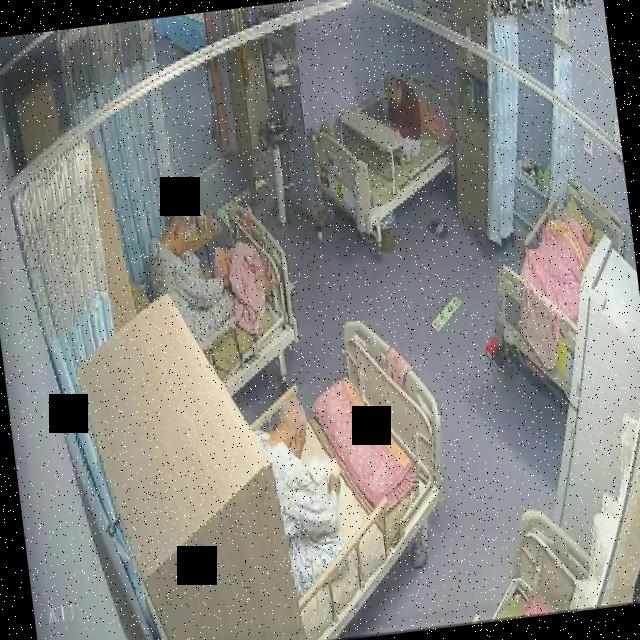bed: (234, 314, 466, 640), (478, 173, 640, 403), (148, 205, 302, 402), (306, 65, 466, 239)
patient: (247, 390, 353, 599), (141, 198, 239, 360), (374, 70, 426, 168)
sit: (142, 194, 282, 356), (248, 389, 352, 598), (374, 70, 425, 168)
